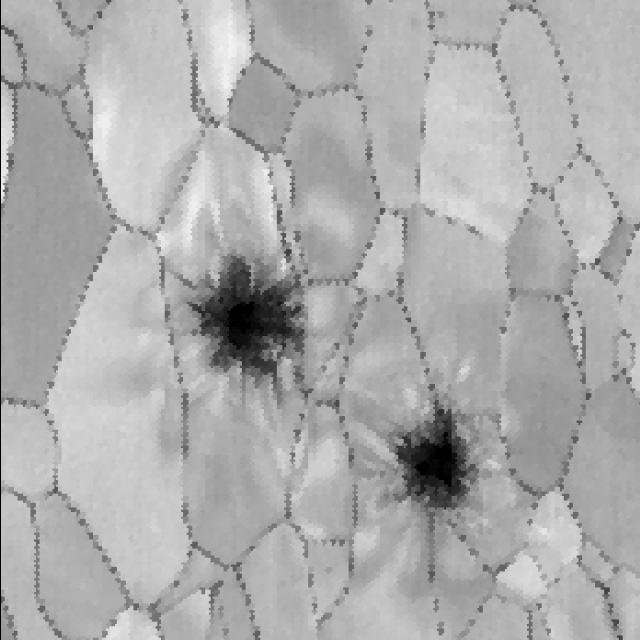good_void: (373, 353, 483, 527), (182, 247, 315, 387)
